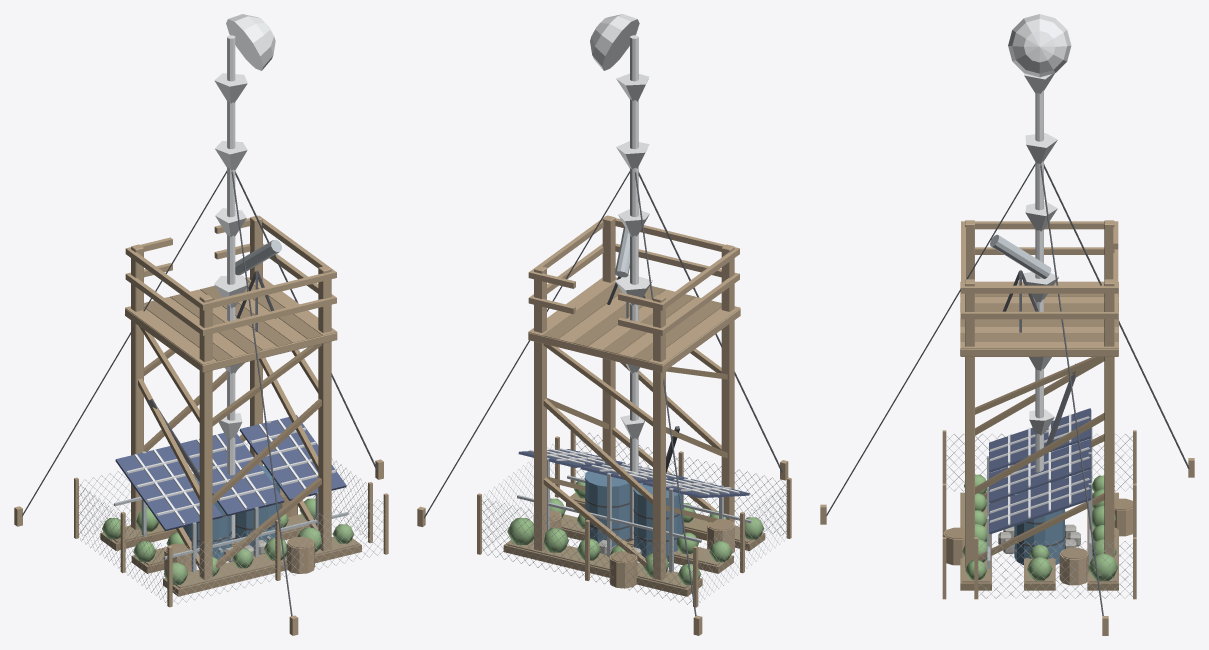
Rendered from bunker_camp.glb.
3 renders of one model, left to right at view 1: azimuth 30°, elevation 25°; view 2: azimuth 150°, elevation 25°; view 3: azimuth 270°, elevation 25°, orthographic.
Parts seen in each view (by area): view 1: bk_lookout_mesh, bk_solar_mesh, bk_garden_mesh, bk_mast_mesh, bk_barrels_mesh, bk_firepit_mesh; view 2: bk_lookout_mesh, bk_garden_mesh, bk_mast_mesh, bk_solar_mesh, bk_barrels_mesh, bk_firepit_mesh; view 3: bk_lookout_mesh, bk_mast_mesh, bk_garden_mesh, bk_solar_mesh, bk_firepit_mesh, bk_barrels_mesh.
Boxes of the visible parts, <box> form: bk_lookout_mesh: <box>125,215,337,580</box>; bk_solar_mesh: <box>114,415,348,572</box>; bk_garden_mesh: <box>74,442,388,607</box>; bk_mast_mesh: <box>14,14,383,635</box>; bk_barrels_mesh: <box>148,399,280,559</box>; bk_firepit_mesh: <box>164,488,314,576</box>; bk_lookout_mesh: <box>528,215,740,580</box>; bk_garden_mesh: <box>477,430,791,607</box>; bk_mast_mesh: <box>417,14,788,635</box>; bk_solar_mesh: <box>517,448,751,572</box>; bk_barrels_mesh: <box>584,426,683,559</box>; bk_firepit_mesh: <box>533,510,734,588</box>; bk_lookout_mesh: <box>960,220,1118,568</box>; bk_mast_mesh: <box>820,14,1194,635</box>; bk_garden_mesh: <box>942,430,1136,599</box>; bk_solar_mesh: <box>987,408,1092,569</box>; bk_firepit_mesh: <box>943,495,1132,585</box>; bk_barrels_mesh: <box>1010,364,1076,565</box>.
Bounding box in the file's own units: 6 × 9.3 × 5.9.
